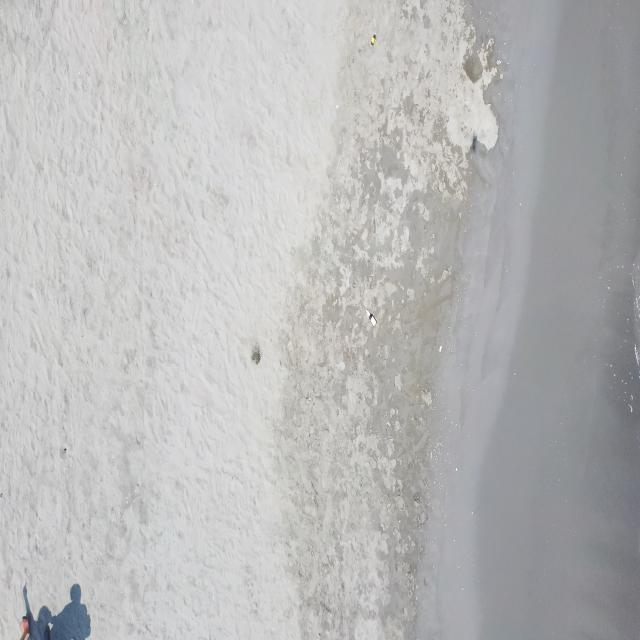glass: (365, 307, 377, 328), (370, 32, 377, 45)
